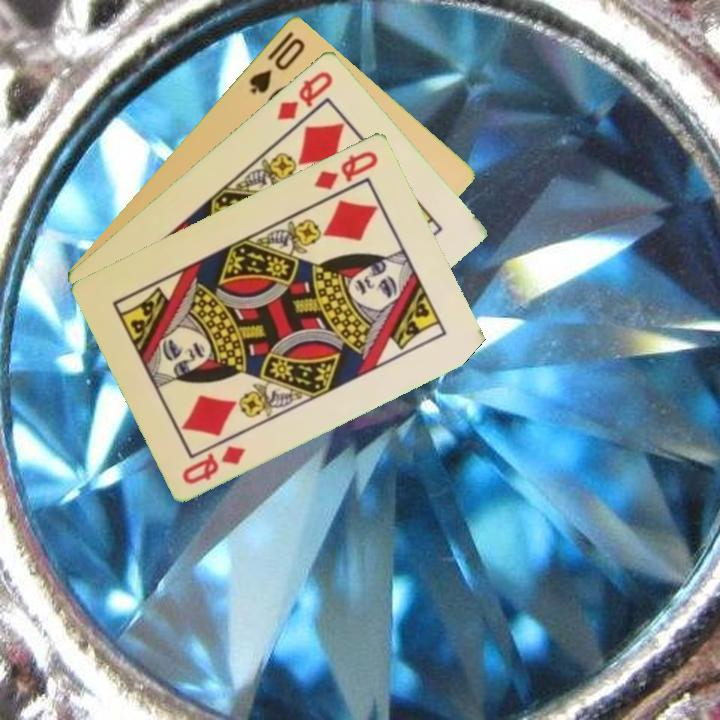10s: (245, 33, 308, 97)
Qd: (273, 67, 336, 123), (310, 147, 382, 193), (178, 441, 249, 487)
